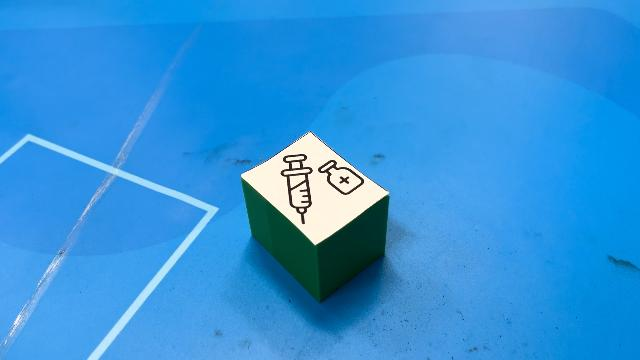syringe: (242, 133, 392, 300)
